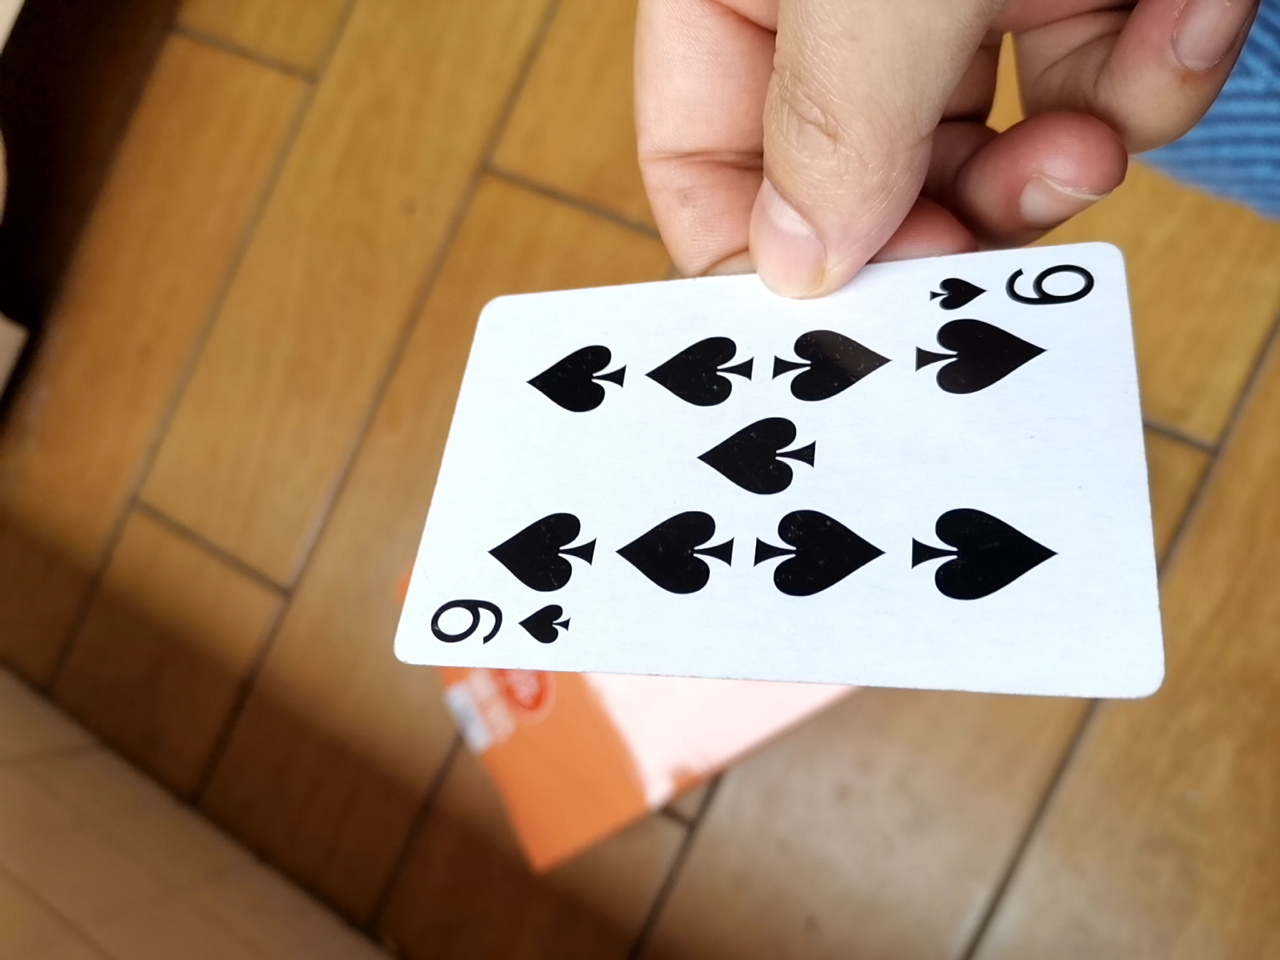ht 9: (378, 245, 1187, 720)
